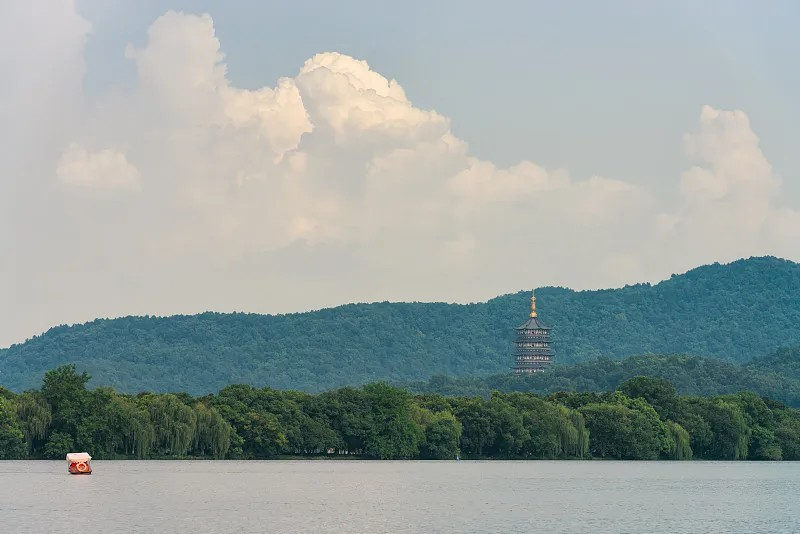Leifeng: (513, 288, 552, 378)
